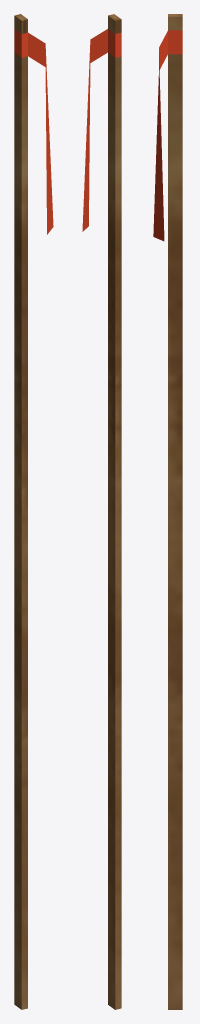
File: stake.dae
3 renders of one model, left to right at view 1: azimuth 30°, elevation 25°; view 2: azimuth 210°, elevation 25°; view 3: azimuth 270°, elevation 25°, orthographic.
Parts seen in each view (by area): view 1: Cube; view 2: Cube; view 3: Cube.
Part boxes in pixels (<box>): Cube: <box>14,14,53,1009</box>; Cube: <box>82,14,121,1009</box>; Cube: <box>153,14,182,1009</box>.
Size of the model in its own units: 0.1189 by 0.0998 by 3.74.
Materials: 1 (1 with a texture image).
